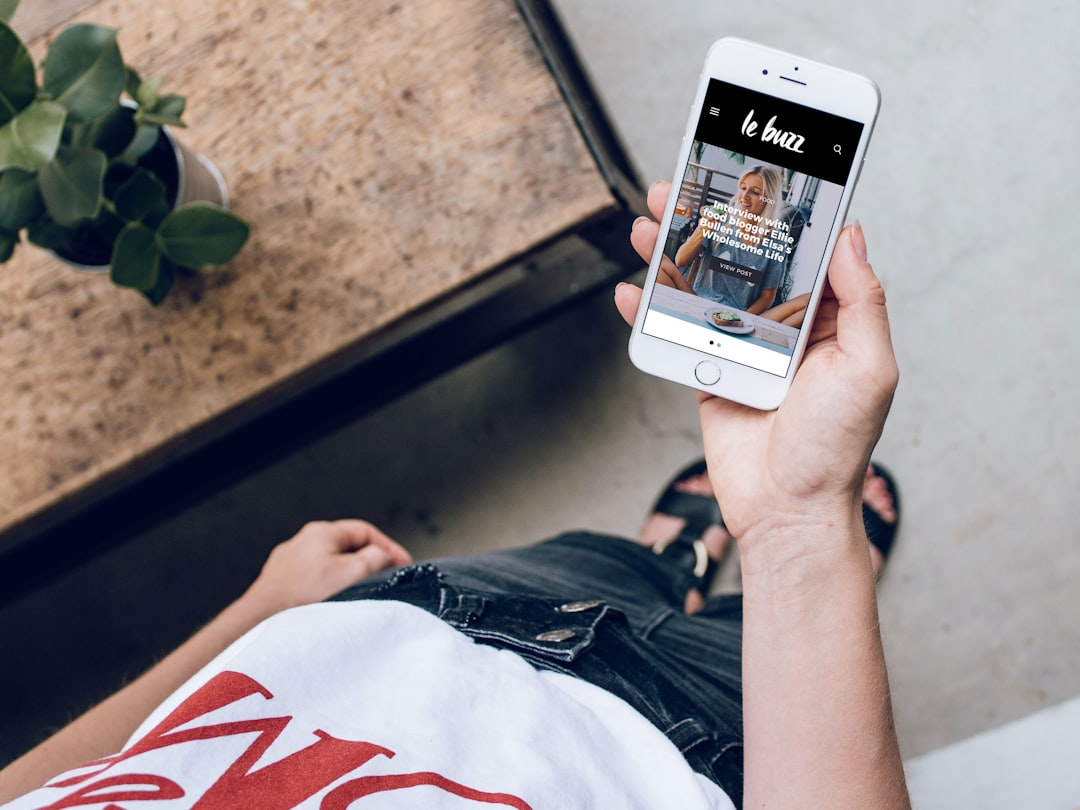phone: (626, 36, 881, 410)
